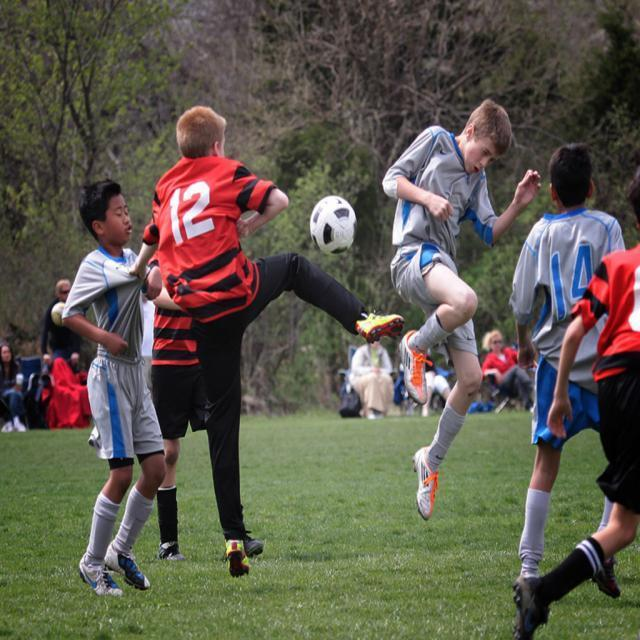football: (304, 191, 364, 257)
